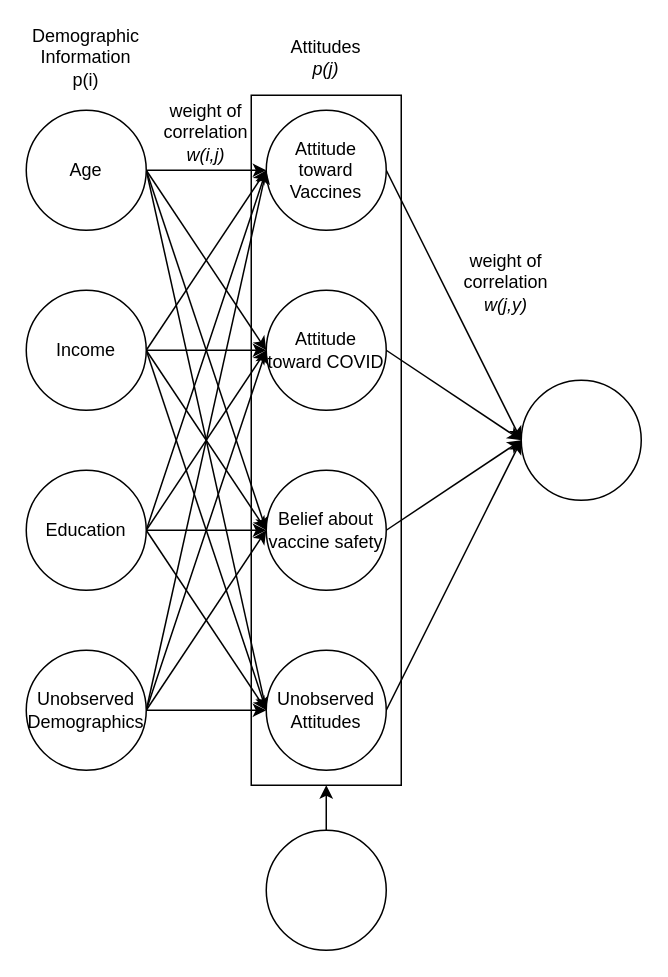
Some shapes in this 668 by 977 pixel diagram are drawn without their labels. Each missing label, with the centre of its shape:
"Prior Beliefs" goes at point (325, 889).
"Tendency to Vaccine p( y)" goes at point (580, 439).
